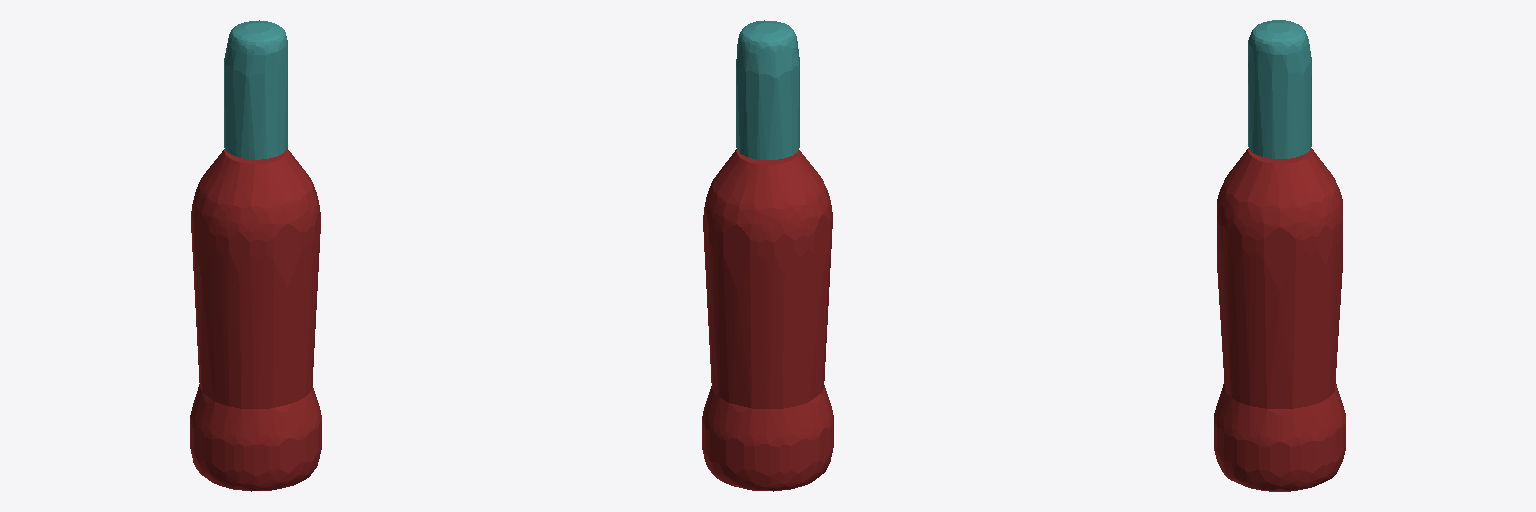
URDF robot description (root):
<robot name="root">
  <link name="bottle_body">
    <inertial>
      <origin xyz="0 0 0" rpy="0 0 0"/>
    </inertial>
    <mass value="1.00E-02"/>
    <visual>
      <origin xyz="0 0 0" rpy="0 0 0"/>
      <geometry>
        <mesh filename="core-bottle-e4915635a488cbfc4c3a35cee92bb95b-coacd_convex_piece_2.obj" scale="1.0000E-01 1.0000E-01 1.0000E-01"/>
      </geometry>
      <material name="">
        <color rgba="6.00E-01 2.00E-01 2.00E-01 1"/>
      </material>
    </visual>
    <collision>
      <origin xyz="0 0 0" rpy="0 0 0"/>
      <geometry>
        <mesh filename="core-bottle-e4915635a488cbfc4c3a35cee92bb95b-coacd_convex_piece_2.obj" scale="1.0000E-01 1.0000E-01 1.0000E-01"/>
      </geometry>
    </collision>
    <visual>
      <origin xyz="0 0 0" rpy="0 0 0"/>
      <geometry>
        <mesh filename="core-bottle-e4915635a488cbfc4c3a35cee92bb95b-coacd_convex_piece_0.obj" scale="1.0000E-01 1.0000E-01 1.0000E-01"/>
      </geometry>
      <material name="">
        <color rgba="6.00E-01 2.00E-01 2.00E-01 1"/>
      </material>
    </visual>
    <collision>
      <origin xyz="0 0 0" rpy="0 0 0"/>
      <geometry>
        <mesh filename="core-bottle-e4915635a488cbfc4c3a35cee92bb95b-coacd_convex_piece_0.obj" scale="1.0000E-01 1.0000E-01 1.0000E-01"/>
      </geometry>
    </collision>
  </link>
  <link name="bottle_cap">
    <origin xyz="0 0 0.002" rpy="0 0 0"/>
    <mass value="1.00E-02"/>
    <visual>
      <origin xyz="0 0 0.002" rpy="0 0 0"/>
      <geometry>
        <mesh filename="core-bottle-e4915635a488cbfc4c3a35cee92bb95b-coacd_convex_piece_1.obj" scale="1.0000E-01 1.0000E-01 1.0000E-01"/>
      </geometry>
      <material name="">
        <color rgba="3.00E-01 6.00E-01 6.00E-01 1"/>
      </material>
    </visual>
    <collision>
      <origin xyz="0 0 0.002" rpy="0 0 0"/>
      <geometry>
        <mesh filename="core-bottle-e4915635a488cbfc4c3a35cee92bb95b-coacd_convex_piece_1.obj" scale="1.0000E-01 1.0000E-01 1.0000E-01"/>
      </geometry>
    </collision>
  </link>
  <joint name="bottle_cap_joint" type="revolute">
    <origin xyz="0 0 0" rpy="0 0 0"/>
    <parent link="bottle_body"/>
    <child link="bottle_cap"/>
    <axis xyz="0 0 1"/>
    <limit lower="0.00" upper="6.28"/>
    <dynamics damping="0.05"/>
  </joint>
</robot>

--- Render facts (derived) ---
3 views of the same robot in one strip: view 1: azimuth 30°, elevation 25°; view 2: azimuth 150°, elevation 25°; view 3: azimuth 270°, elevation 25° (orthographic).
Robot: root — 2 links, 1 joints (1 revolute); root link bottle_body; default pose: all joints at 0.
Links seen in each view (by area): view 1: bottle_body, bottle_cap; view 2: bottle_body, bottle_cap; view 3: bottle_body, bottle_cap.
Boxes of the visible links, left/top/right/bottom form: bottle_body: left=190, top=148, right=321, bottom=491; bottle_cap: left=224, top=20, right=287, bottom=159; bottle_body: left=702, top=149, right=833, bottom=491; bottle_cap: left=736, top=20, right=799, bottom=159; bottle_body: left=1214, top=148, right=1345, bottom=491; bottle_cap: left=1248, top=20, right=1311, bottom=158.
Bounding box of the posed robot: 0.052 × 0.052 × 0.1934 m (x, y, z).
3 mesh visuals loaded from 3 distinct referenced files (3 OBJ).